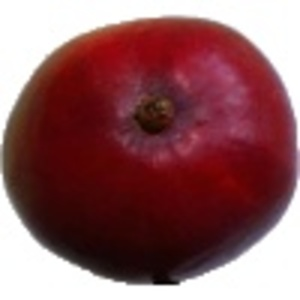manga: (1, 15, 300, 285)
